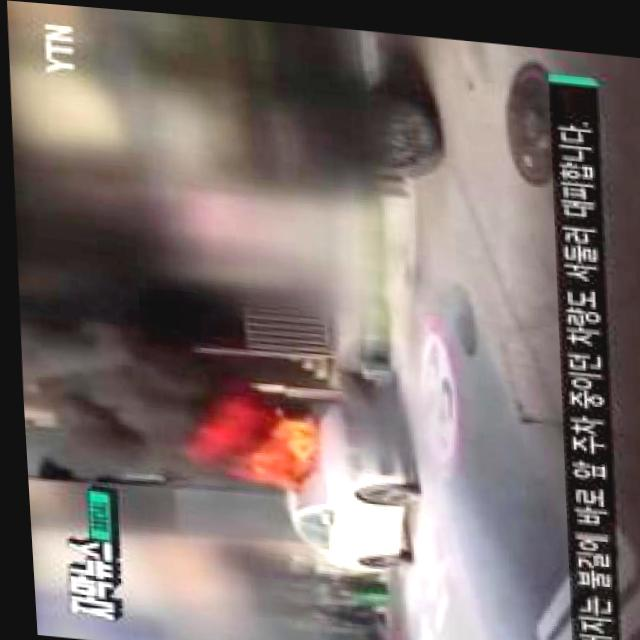helmet: (202, 394, 314, 487)
no_helmet: (12, 267, 228, 493)
